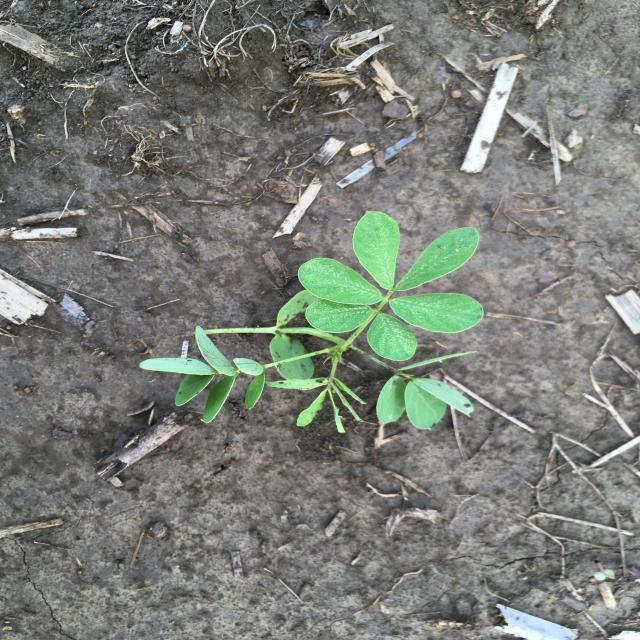Sicklepod: (138, 208, 488, 436)
